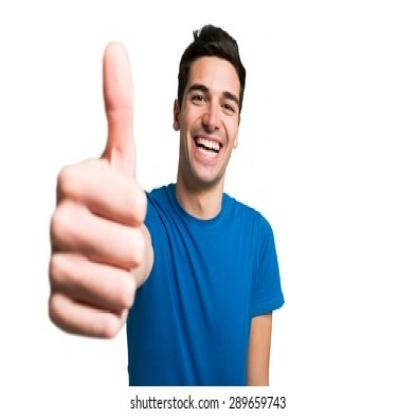Thumbs-Up: (35, 39, 162, 345)
